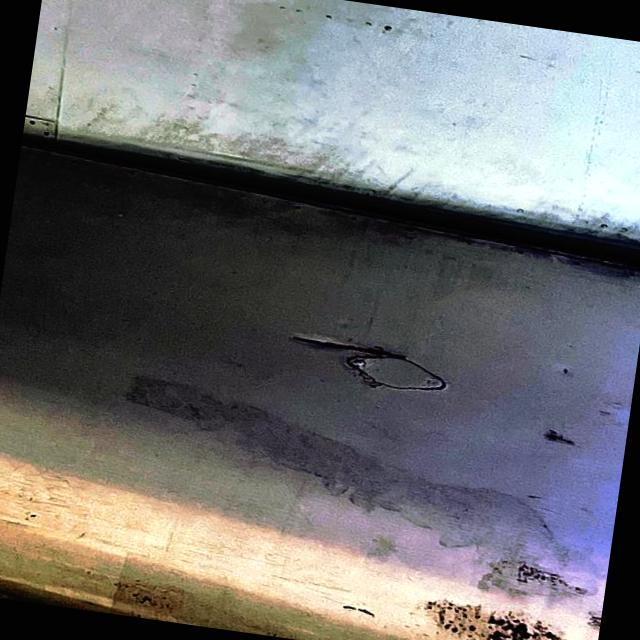crack: (290, 330, 396, 360)
